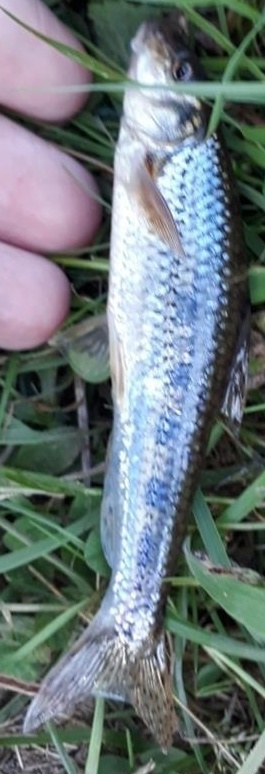Gobio gobio: (20, 20, 245, 754)
